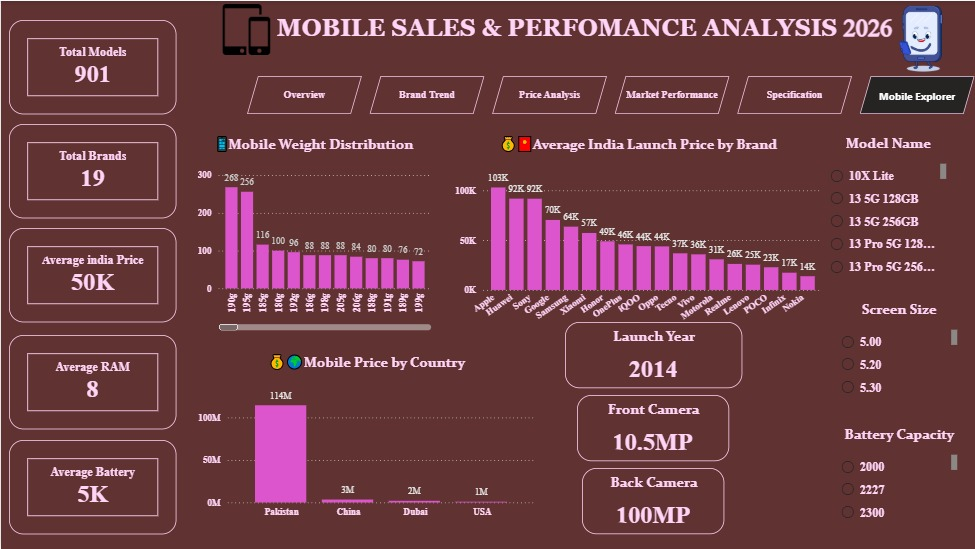

The page's visual inventory and layout, read from the dashboard file:
{"tool":"powerbi","page":{"name":"Mobile Explorer","canvas":[1280,720],"ordinal":6},"visuals":[{"type":"group","id":"g1","title":"Header","box":[357.5,0,922.5,98.7],"z":0},{"type":"textbox","box":[357.5,9.6,875.4,57.8],"z":0,"group":"g1"},{"type":"cardVisual","fields":{"Data":["Mobiles Dataset (2026).Total Models"]},"box":[10,24.3,220.2,124.4],"z":0,"group":"g2"},{"type":"image","box":[1137.9,0,141.8,99.1],"z":1000,"group":"g1"},{"type":"pageNavigator","box":[323.2,98.7,956.8,50.1],"z":1000},{"type":"cardVisual","fields":{"Data":["Mobiles Dataset (2026).Average india Price"]},"box":[10,297.5,220.2,124.4],"z":1000,"group":"g2"},{"type":"group","id":"g2","title":"KPIs","box":[10,24.3,220.2,676.5],"z":2000},{"type":"cardVisual","fields":{"Data":["Mobiles Dataset (2026).Average RAM"]},"box":[10,437.6,220.2,124.4],"z":2000,"group":"g2"},{"type":"columnChart","title":"📱Mobile Weight Distribution","fields":{"Category":["Mobiles Dataset (2026).Mobile Weight"],"Y":["CountNonNull(Mobiles Dataset (2026).Model Name)"]},"box":[253.2,174.8,316.6,262.9],"z":3000},{"type":"cardVisual","fields":{"Data":["Mobiles Dataset (2026).Average Battery"]},"box":[10,576.3,220.2,124.4],"z":3000,"group":"g2"},{"type":"cardVisual","fields":{"Data":["Mobiles Dataset (2026).Total Brands"]},"box":[10,161.6,220.2,124.4],"z":4000,"group":"g2"},{"type":"cardVisual","title":"Launch Year","fields":{"Data":["Min(Mobiles Dataset (2026).Launched Year)"]},"box":[740.5,437.7,232.6,86.7],"z":4000},{"type":"clusteredColumnChart","title":"💰🧧Average India Launch Price by Brand","fields":{"Category":["Mobiles Dataset (2026).Company Name"],"Y":["Mobiles Dataset (2026).Average India Price"]},"box":[591.8,174.8,492.7,246.4],"z":5000},{"type":"listSlicer","title":"Battery Capacity","fields":{"Values":["Mobiles Dataset (2026).Battery Capacity"]},"box":[1098.3,557.4,163.8,133.5],"z":6000},{"type":"listSlicer","title":"Screen Size","fields":{"Values":["Mobiles Dataset (2026).Screen Size"]},"box":[1098.3,392.3,163.8,136.3],"z":7000},{"type":"listSlicer","title":"Model Name","fields":{"Values":["Mobiles Dataset (2026).Model Name"]},"box":[1084.6,174.8,163.8,199.6],"z":8000},{"type":"clusteredColumnChart","title":"💰🌍Mobile Price by Country","fields":{"Category":["Mobiles Dataset (2026).Country"],"Y":["Sum(Mobiles Dataset (2026).Price)"]},"box":[253.2,461.1,454.2,225.7],"z":9000},{"type":"cardVisual","title":"Front Camera","fields":{"Data":["Min(Mobiles Dataset (2026).Front Camera)"]},"box":[757,529.9,199.6,86.7],"z":10000},{"type":"cardVisual","title":"Back Camera","fields":{"Data":["Min(Mobiles Dataset (2026).Back Camera)"]},"box":[763.9,623.5,187.2,86.7],"z":11000},{"type":"image","box":[265.6,4,114.2,67.4],"z":12000}]}

Visuals, with their boxes in screenshot pixels (x1, y1, x2, y2), scaled from the page's 1280x720 canvas onto the 975x549 screenshot:
"Header" group: bbox=[272, 0, 974, 75]
textbox: bbox=[272, 7, 939, 51]
cardVisual - Mobiles Dataset (2026).Total Models: bbox=[8, 19, 175, 113]
image: bbox=[867, 0, 974, 76]
pageNavigator: bbox=[246, 75, 974, 113]
cardVisual - Mobiles Dataset (2026).Average india Price: bbox=[8, 227, 175, 322]
"KPIs" group: bbox=[8, 19, 175, 534]
cardVisual - Mobiles Dataset (2026).Average RAM: bbox=[8, 334, 175, 429]
"📱Mobile Weight Distribution" columnChart: bbox=[193, 133, 434, 334]
cardVisual - Mobiles Dataset (2026).Average Battery: bbox=[8, 439, 175, 534]
cardVisual - Mobiles Dataset (2026).Total Brands: bbox=[8, 123, 175, 218]
"Launch Year" cardVisual: bbox=[564, 334, 741, 400]
"💰🧧Average India Launch Price by Brand" clusteredColumnChart: bbox=[451, 133, 826, 321]
"Battery Capacity" listSlicer: bbox=[837, 425, 961, 527]
"Screen Size" listSlicer: bbox=[837, 299, 961, 403]
"Model Name" listSlicer: bbox=[826, 133, 951, 285]
"💰🌍Mobile Price by Country" clusteredColumnChart: bbox=[193, 352, 539, 524]
"Front Camera" cardVisual: bbox=[577, 404, 729, 470]
"Back Camera" cardVisual: bbox=[582, 475, 724, 542]
image: bbox=[202, 3, 289, 54]
